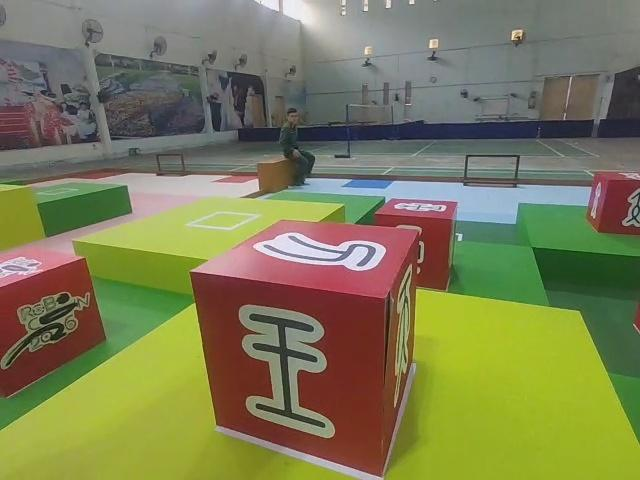R1: (0, 240, 109, 401)
R2 Fake: (187, 215, 422, 480)
R2 Real: (583, 166, 640, 239)
